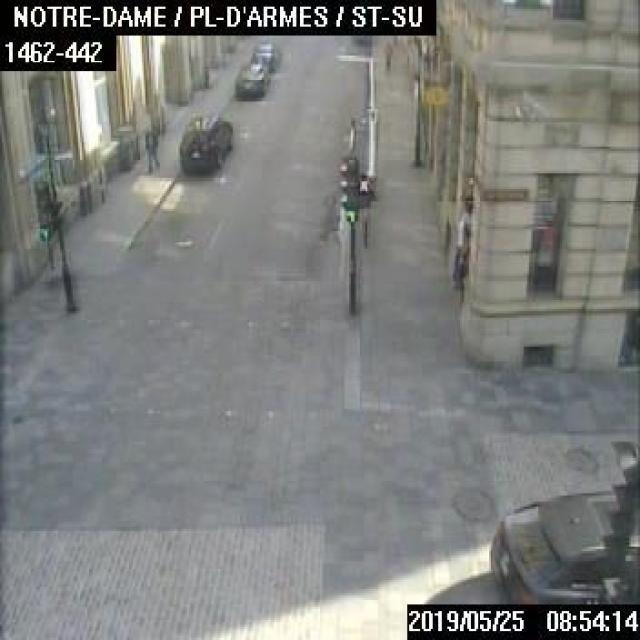pedestrian: (142, 122, 158, 174)
vehicle: (484, 484, 638, 602), (176, 111, 231, 176), (235, 63, 268, 100), (248, 38, 280, 70)
